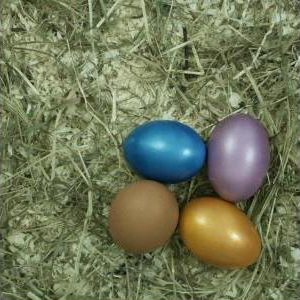egg: (179, 196, 264, 271), (206, 112, 270, 201), (122, 121, 208, 183), (108, 181, 179, 253)
